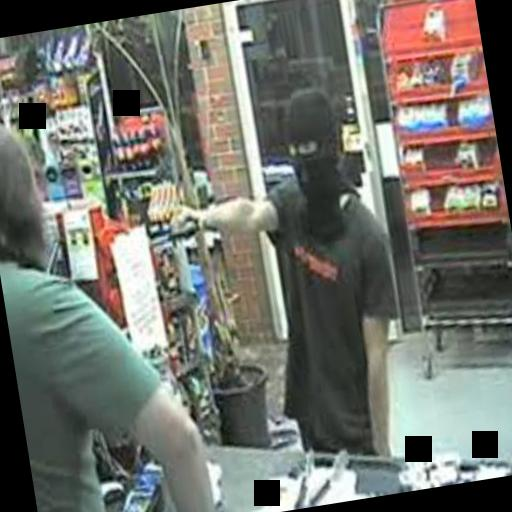Handgun: (159, 199, 205, 253)
